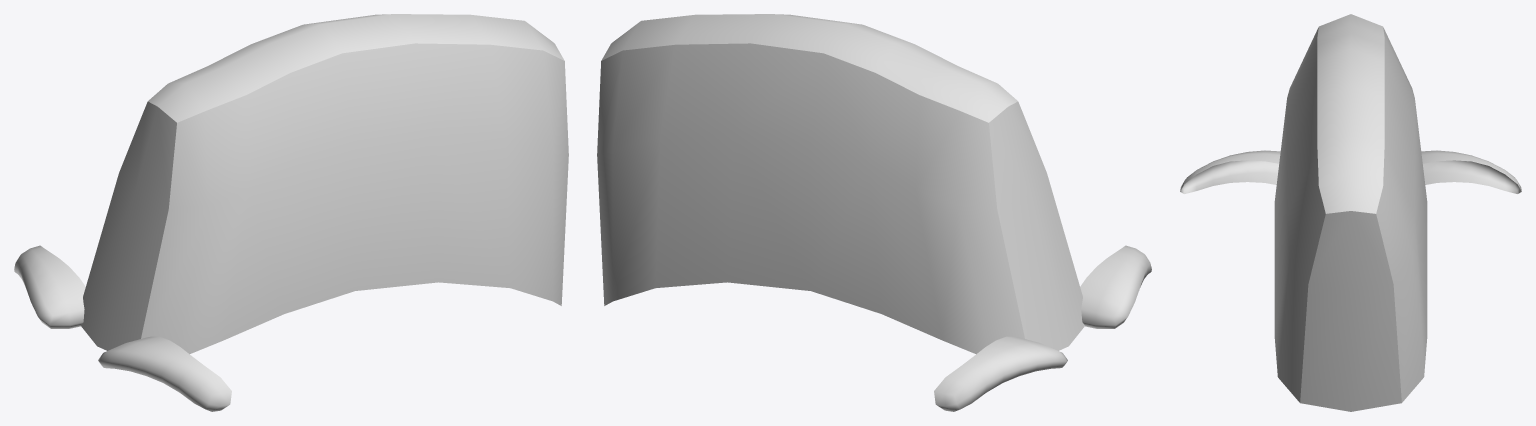
The model's file is Hair03.fbx.
3 renders of one model, left to right at view 1: azimuth 30°, elevation 25°; view 2: azimuth 150°, elevation 25°; view 3: azimuth 270°, elevation 25°, orthographic. The views are drawn at different scales.
Parts seen in each view (by area): view 1: Hair03; view 2: Hair03; view 3: Hair03.
Part boxes in pixels (bbox=[...]): Hair03: bbox=[14, 14, 568, 411]; Hair03: bbox=[597, 14, 1151, 411]; Hair03: bbox=[1180, 14, 1521, 411].
Size of the model in its own units: 0.7473 by 0.5313 by 0.4679.
